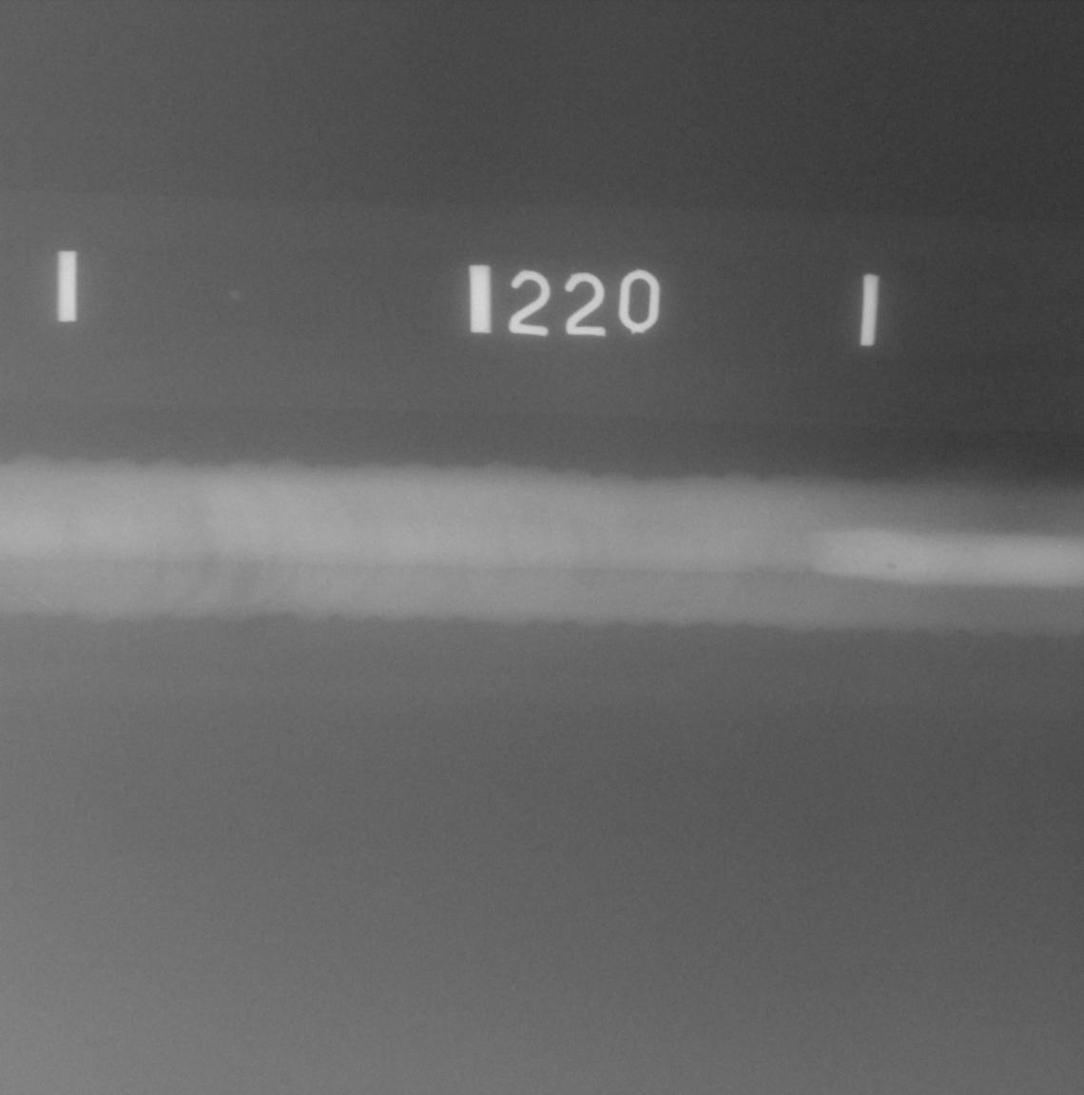Pore/Porosity: (884, 561, 898, 570), (754, 564, 766, 573)
